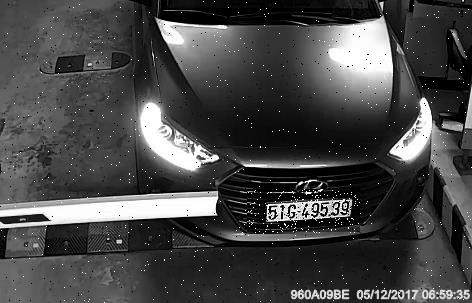License-plate: (249, 191, 363, 235)
